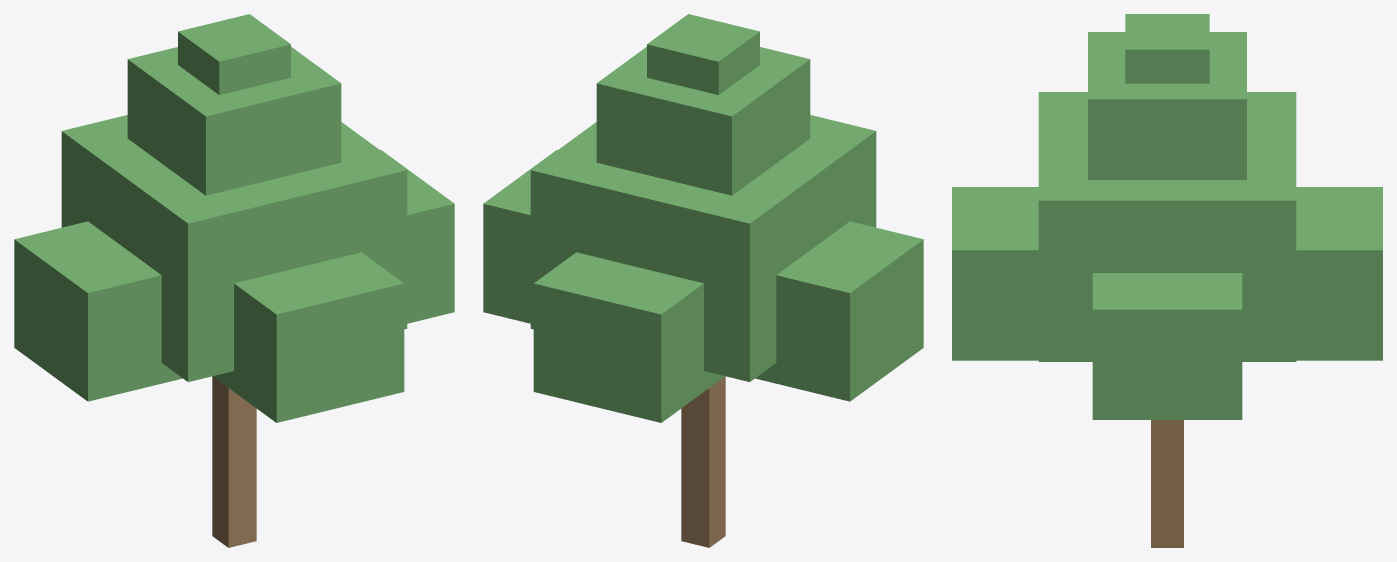
The model's file is Prop_DS_Tree_09.glb.
3 views of the same model, side by side, from view 1: azimuth 30°, elevation 25°; view 2: azimuth 150°, elevation 25°; view 3: azimuth 270°, elevation 25° (orthographic).
Parts seen in each view (by area): view 1: Cube.001, Cube.005, Cube.006, Cube.003, Cube, Cube.007, Cube.002; view 2: Cube.001, Cube.004, Cube.006, Cube.003, Cube, Cube.007, Cube.002; view 3: Cube.001, Cube.002, Cube.006, Cube.004, Cube.005, Cube.007, Cube.
Part boxes in pixels (x1,y1,x2,y2): Cube.001: (61,115,407,381); Cube.005: (213,252,404,422); Cube.006: (127,47,341,195); Cube.003: (14,221,182,401); Cube: (212,376,256,547); Cube.007: (178,14,290,94); Cube.002: (380,150,454,323); Cube.001: (530,115,876,381); Cube.004: (533,252,724,422); Cube.006: (596,47,810,195); Cube.003: (755,221,923,401); Cube: (681,376,725,547); Cube.007: (647,14,759,94); Cube.002: (483,150,557,323); Cube.001: (1038,92,1296,361); Cube.002: (1092,273,1242,419); Cube.006: (1088,32,1246,179); Cube.004: (1296,187,1382,360); Cube.005: (952,187,1038,360); Cube.007: (1125,14,1209,83); Cube: (1151,420,1183,547).
Size of the model in its own units: 3.91 by 5.1 by 3.91.
